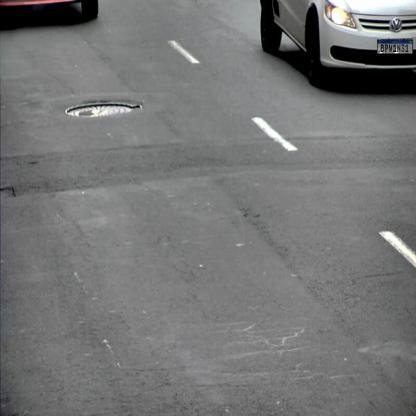PlacaM: (377, 40, 413, 54)
